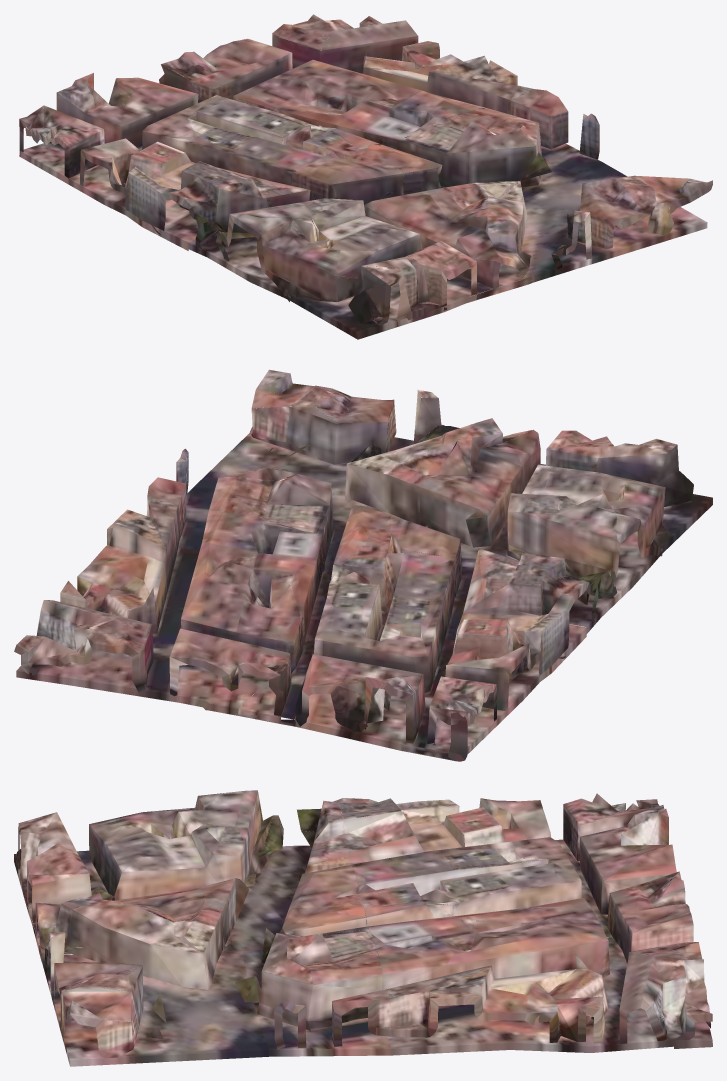
3 views of the same model, one above another, from view 1: azimuth 30°, elevation 25°; view 2: azimuth 150°, elevation 25°; view 3: azimuth 270°, elevation 25° (orthographic). The views are drawn at different scales.
Visible parts, largest first — view 1: Mesh_0; view 2: Mesh_0; view 3: Mesh_0.
Boxes of the visible parts, x1,y1,x2,y2 form: Mesh_0: (19, 14, 712, 339); Mesh_0: (14, 369, 712, 761); Mesh_0: (14, 790, 712, 1066).
Size of the model in its own units: 274 by 41.03 by 329.
2 materials, 2 textured.
